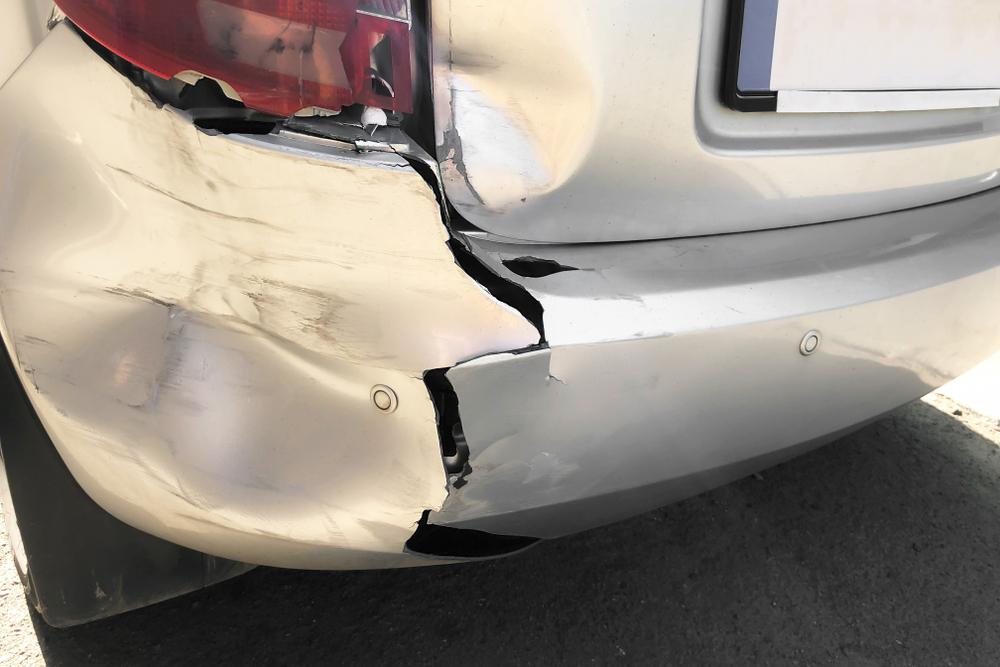crack: (404, 162, 565, 560), (497, 254, 576, 277)
dent: (43, 103, 540, 551), (430, 6, 600, 205)
lamp broken: (56, 0, 432, 163)
